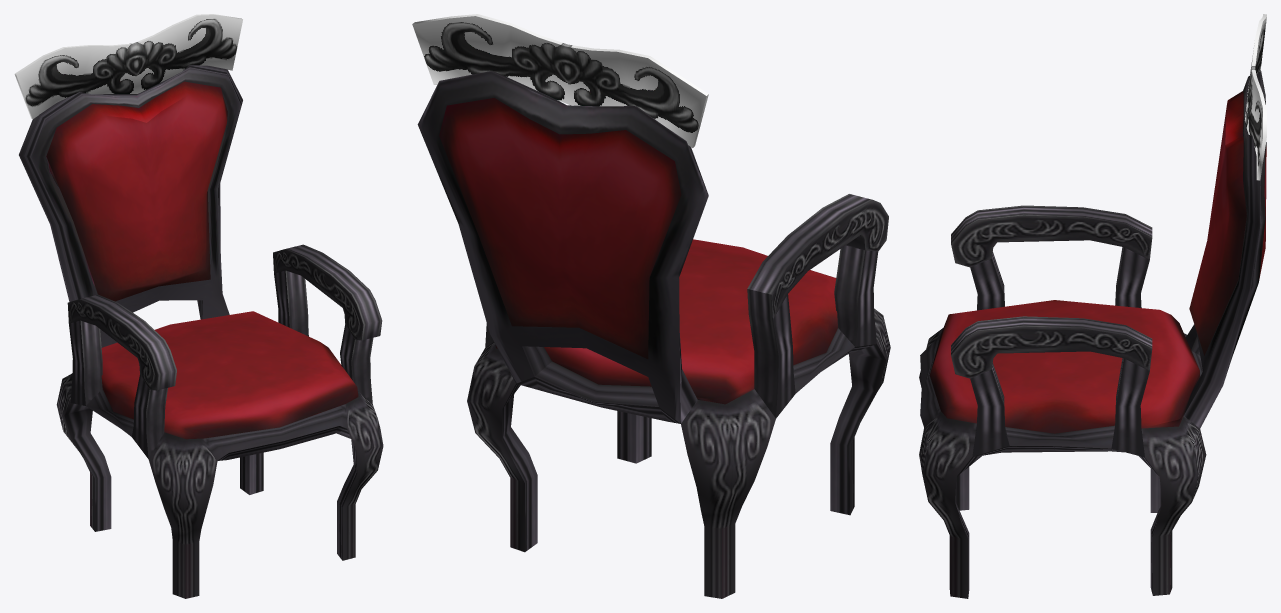
The model's file is VictorianChair_HD.fbx.
The picture shows the model from 3 angles, left to right: view 1: azimuth 30°, elevation 25°; view 2: azimuth 150°, elevation 25°; view 3: azimuth 270°, elevation 25°; orthographic projection. The views are drawn at different scales.
Visible parts, largest first — view 1: VictorianChair; view 2: VictorianChair; view 3: VictorianChair.
Boxes of the visible parts, x1=… form: VictorianChair: x1=14, y1=14, x2=383, y2=598; VictorianChair: x1=412, y1=14, x2=890, y2=598; VictorianChair: x1=919, y1=14, x2=1266, y2=598.
Bounding box in the file's own units: 0.5376 × 1.01 × 0.6428.
